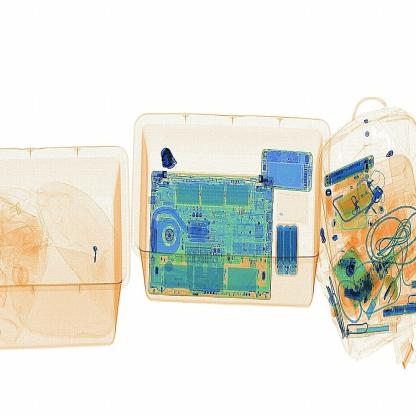scissors: (160, 145, 183, 171)
